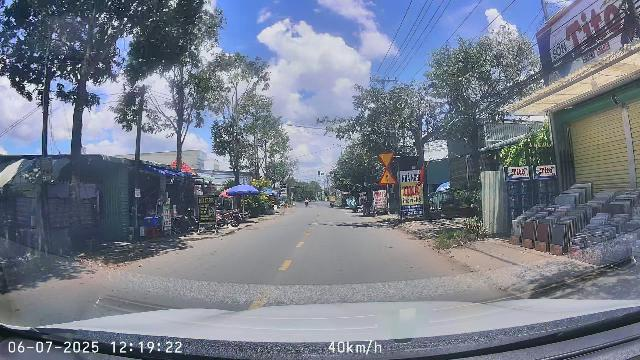208-giao-nhau-voi-duong-uu-tien: (378, 152, 395, 168)
209-giao-nhau-co-tin-hieu-den: (378, 168, 397, 185)
